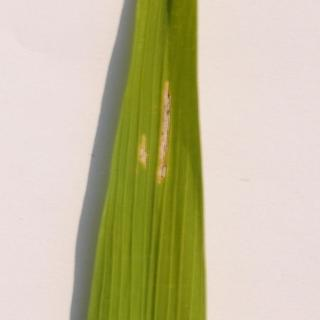Hawar-Daun: (133, 63, 180, 200)
